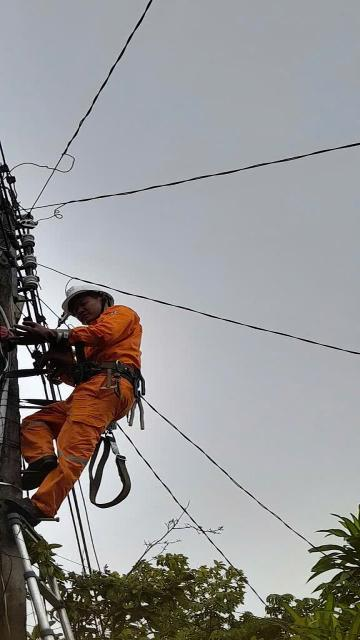gloves: (12, 314, 72, 348)
harness: (57, 358, 153, 390)
helmet: (60, 278, 119, 316)
shoes: (10, 447, 60, 490), (0, 491, 55, 525)
